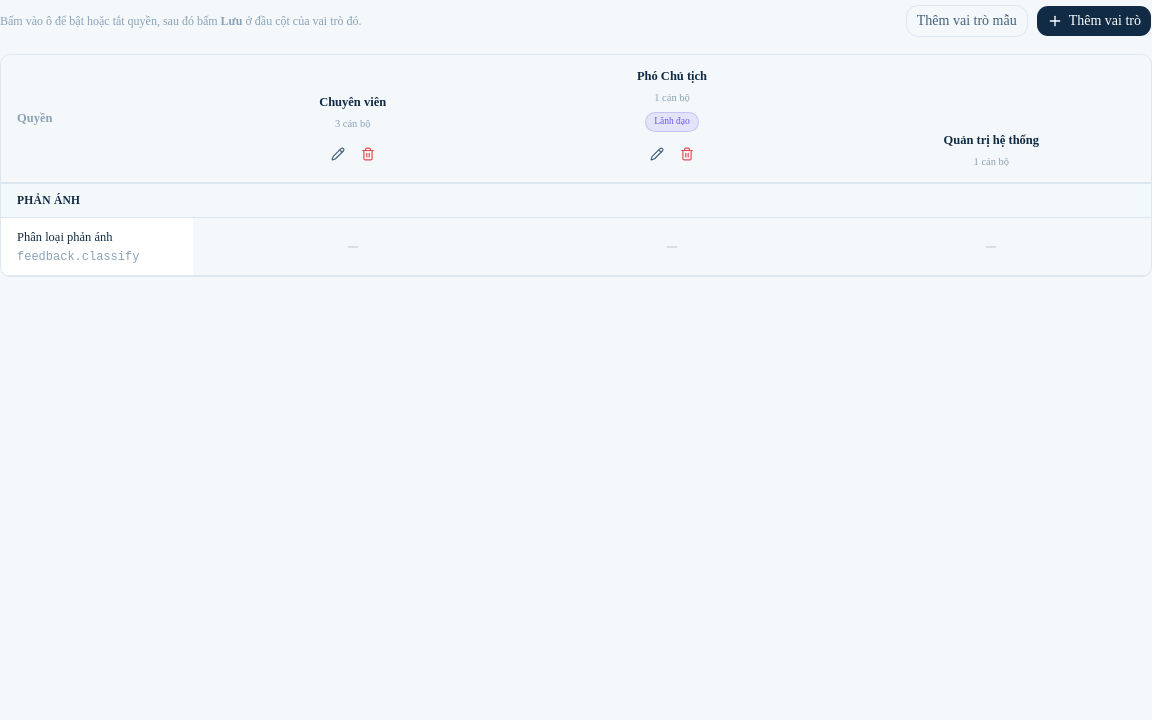
Test: Thêm vai trò › an empty name is stopped under the field, nothing sent
Step 1. Click the button "Thêm vai trò" → (1094, 21), box [1036,5,1151,37]
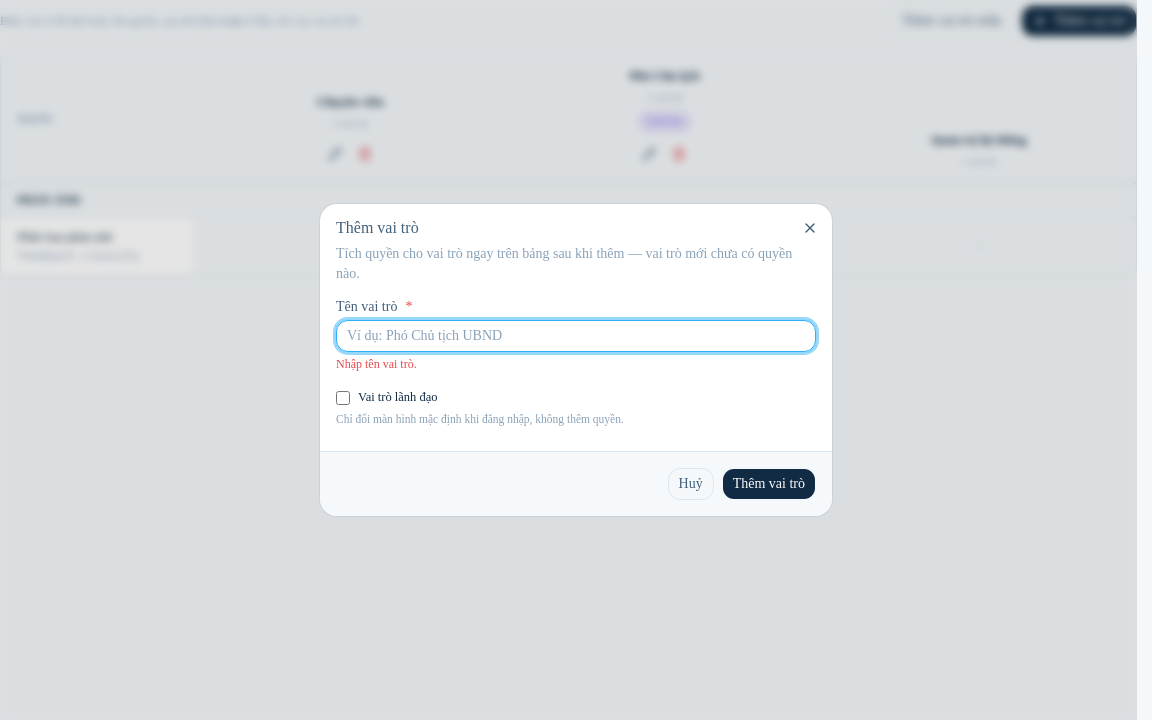
Expected: the dialog is shown, [320,204,832,516]
Expected: the message "Nhập tên vai trò." is shown, [336,357,417,371]
